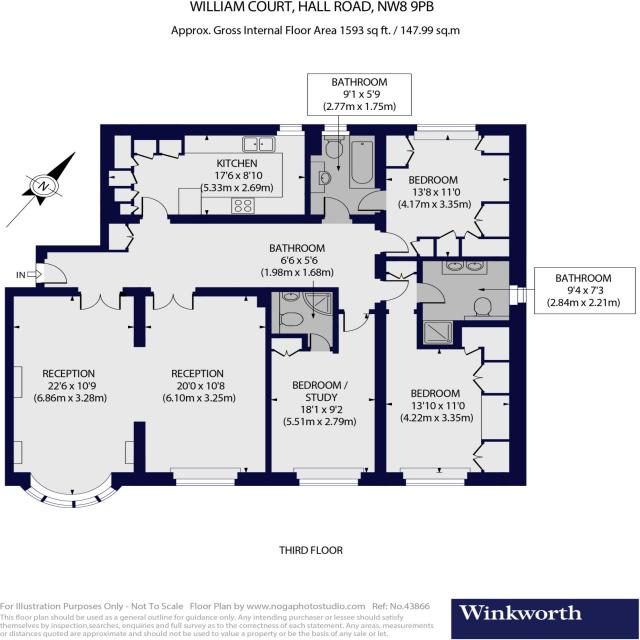DOOR: (138, 192, 175, 229), (30, 259, 75, 286), (378, 279, 411, 302), (415, 281, 448, 304), (342, 308, 372, 333), (356, 189, 388, 212), (378, 231, 410, 254), (323, 196, 352, 221), (308, 331, 331, 353)
DOUBLE DOOR: (76, 287, 125, 313), (149, 287, 198, 311)
ROOM: (3, 286, 273, 511), (373, 308, 529, 488), (353, 124, 527, 261), (99, 123, 325, 224), (262, 308, 387, 487)
WINDOW: (297, 477, 359, 488), (174, 477, 236, 488), (404, 478, 466, 487), (416, 123, 477, 132), (21, 484, 47, 504), (40, 494, 74, 509), (96, 485, 120, 504), (73, 495, 102, 509), (279, 123, 304, 132), (323, 123, 348, 132)
